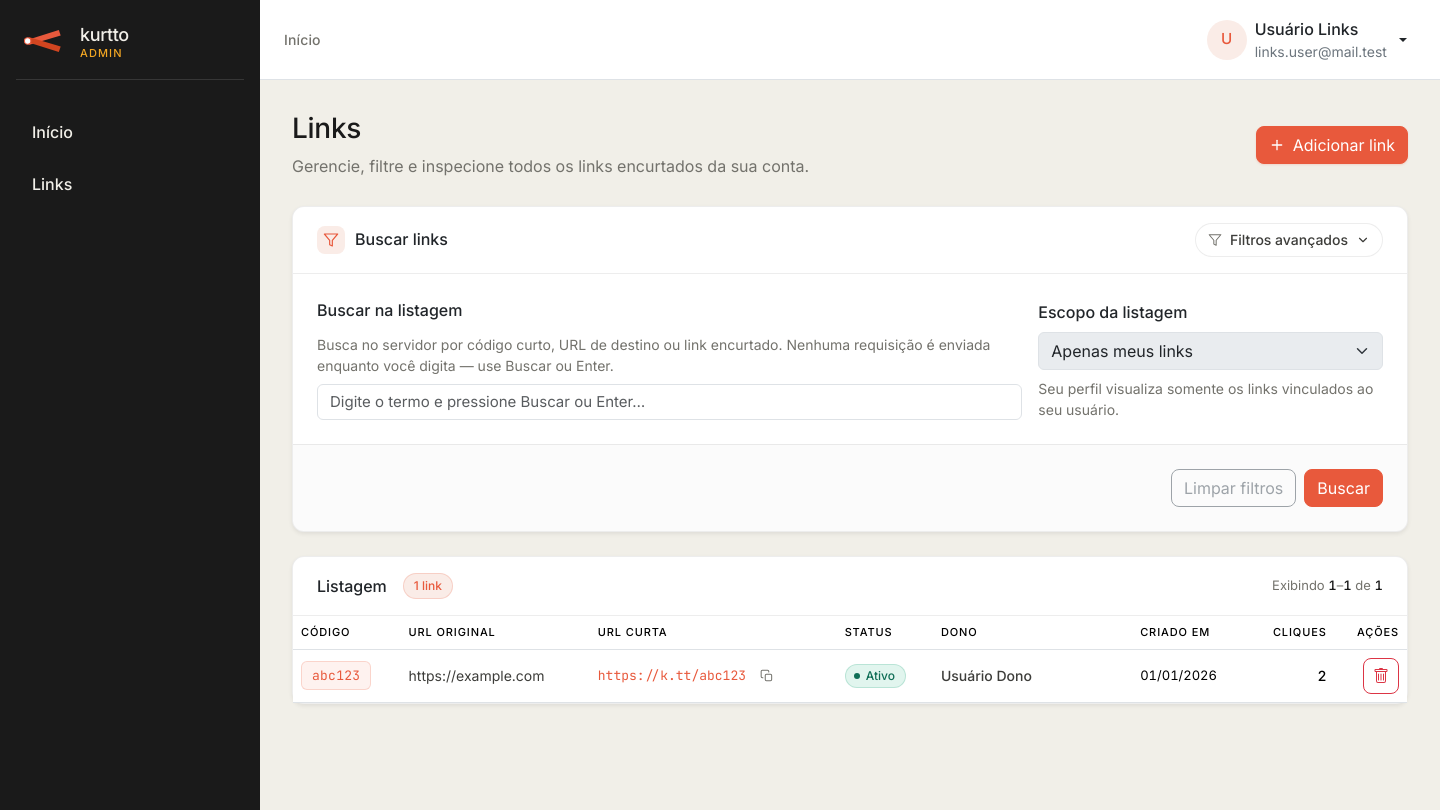
it: Links › exclui com atualização da lista
Expected: the link "https://example.com" is shown, [409,667,545,684]
Click the button named "excluir link" at (1381, 676), box [1363,658,1399,694]
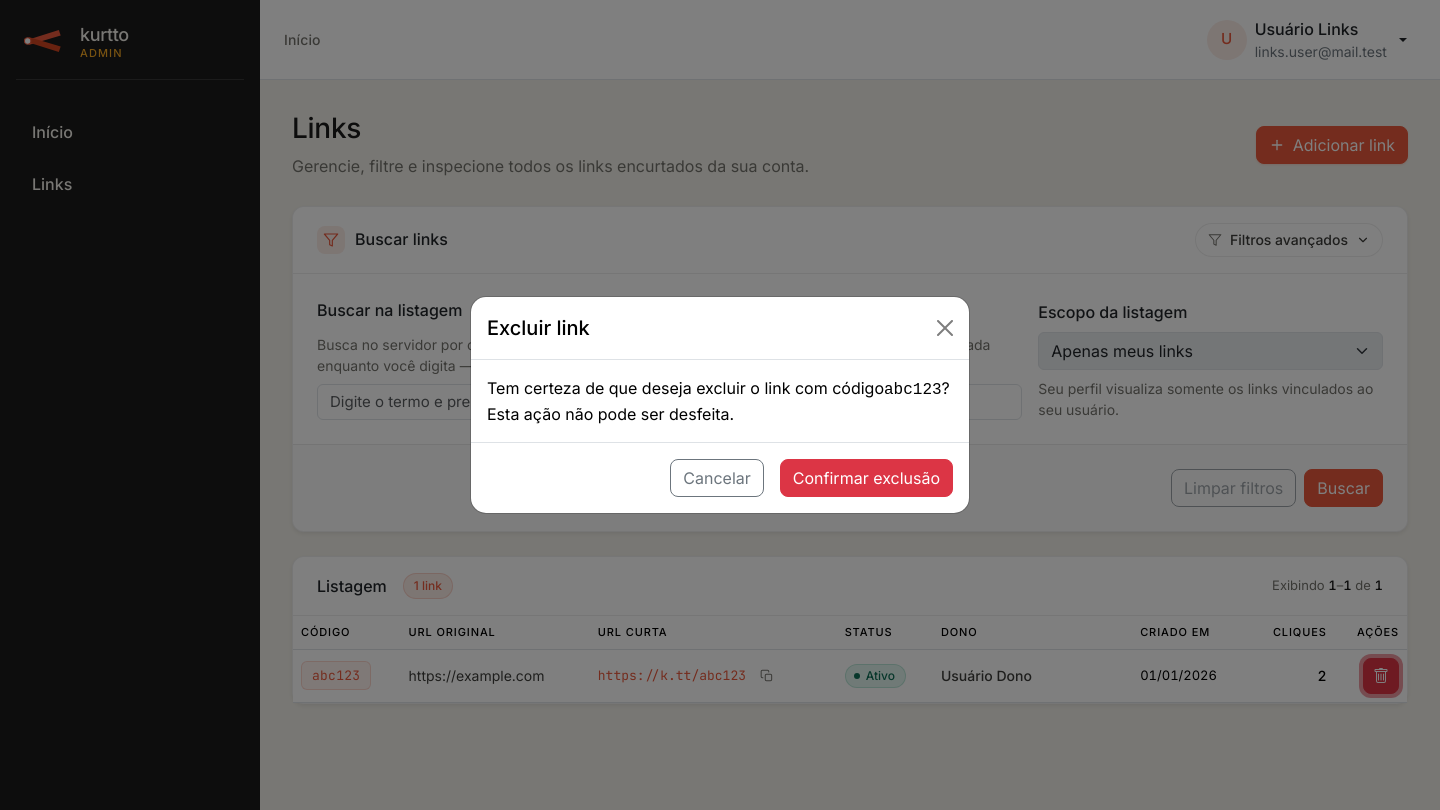
Now the dialog "Excluir link" is shown, box [470,296,970,514]
Click the button "Confirmar exclusão" at (866, 478), box [780,459,953,497]
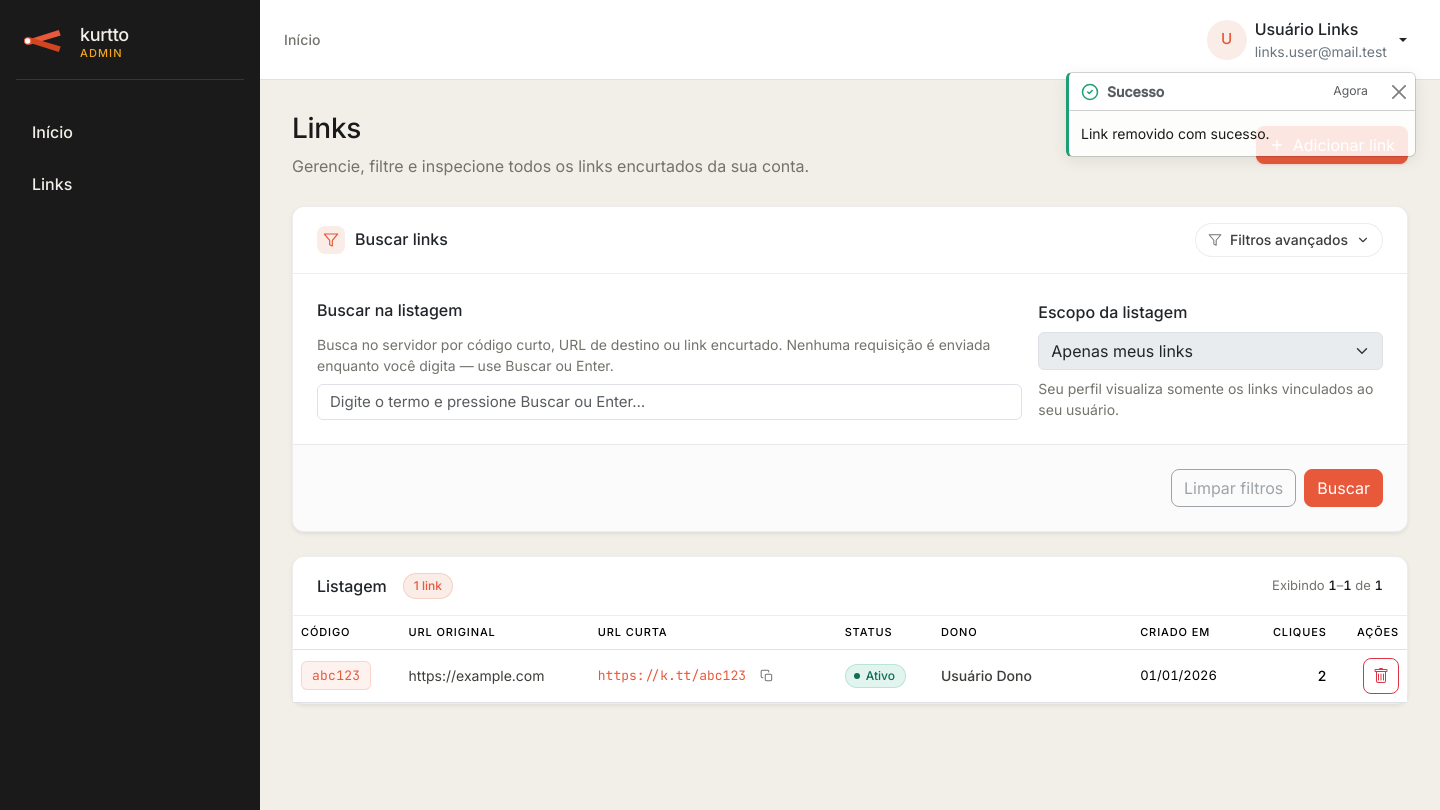
Now the text "Link removido com sucesso." is shown, box [1081,125,1270,142]
